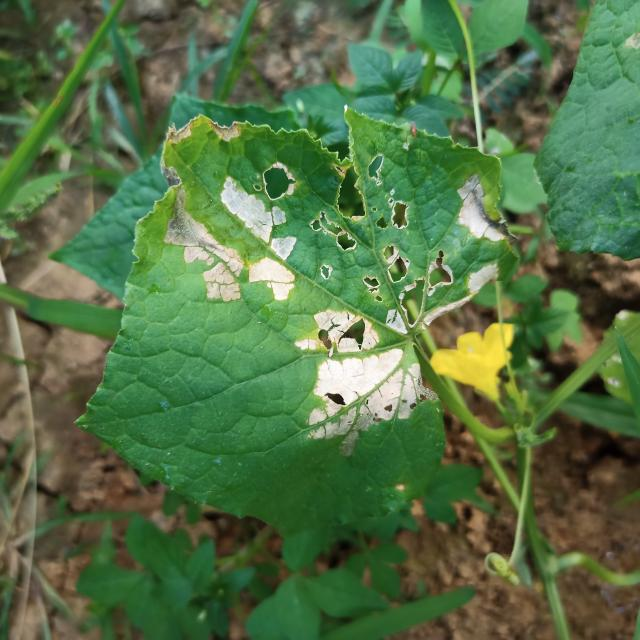disease_cucumber: (154, 120, 504, 356), (288, 304, 435, 447)
